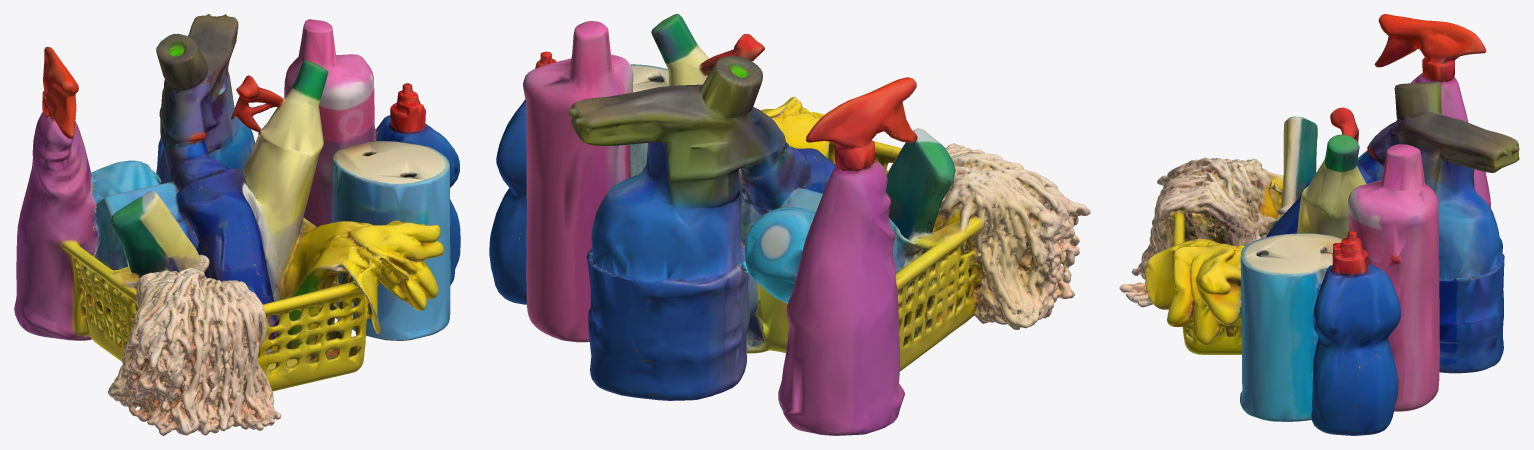
The model's file is cleaning supply.glb.
3 views of the same model, side by side, from view 1: azimuth 30°, elevation 25°; view 2: azimuth 150°, elevation 25°; view 3: azimuth 270°, elevation 25° (orthographic). The views are drawn at different scales.
Parts seen in each view (by area): view 1: Mesh_0; view 2: Mesh_0; view 3: Mesh_0.
Part boxes in pixels (x1,y1,x2,y2): Mesh_0: [14, 14, 460, 435]; Mesh_0: [489, 14, 1090, 435]; Mesh_0: [1119, 14, 1519, 435].
Size of the model in its own units: 0.5318 by 0.3499 by 0.4861.
Materials: 1 (1 with a texture image).
